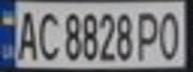2: (97, 8, 118, 62)
8: (78, 8, 100, 62), (60, 8, 81, 62), (115, 8, 136, 62)
A: (12, 7, 42, 62)
C: (33, 7, 60, 62)
O: (154, 7, 187, 61)
P: (133, 7, 163, 61)
